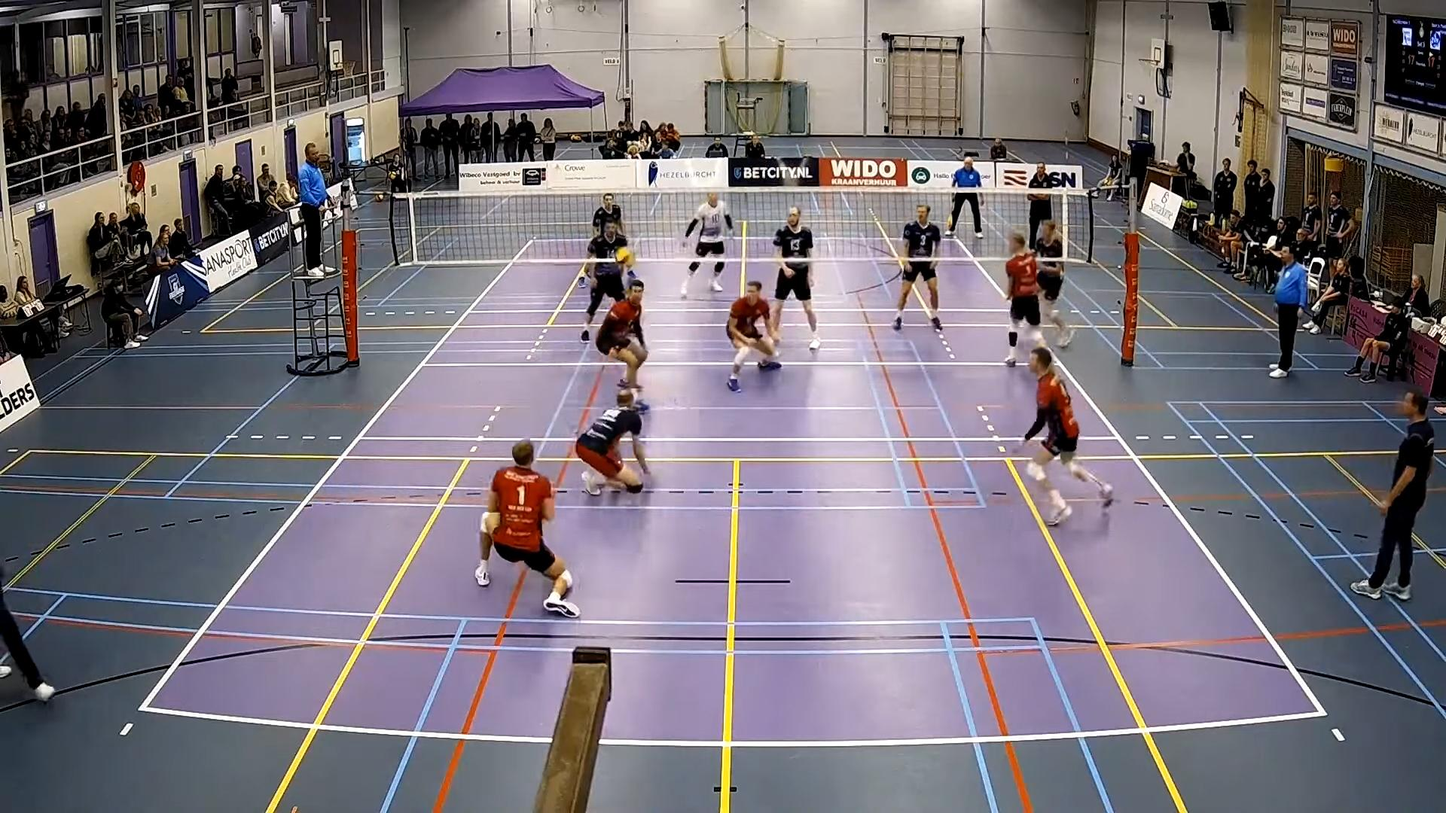Dig: (569, 388, 655, 498)
Player: (474, 441, 579, 617), (1024, 347, 1112, 525), (770, 207, 821, 349), (893, 204, 941, 330), (581, 222, 631, 342), (727, 281, 781, 391), (595, 279, 647, 391), (681, 192, 733, 297), (1005, 233, 1044, 367), (1036, 221, 1073, 347), (593, 193, 624, 235)
ball: (615, 248, 635, 266)
